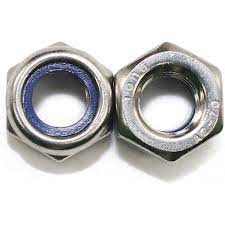Thread: (127, 59, 211, 142)
